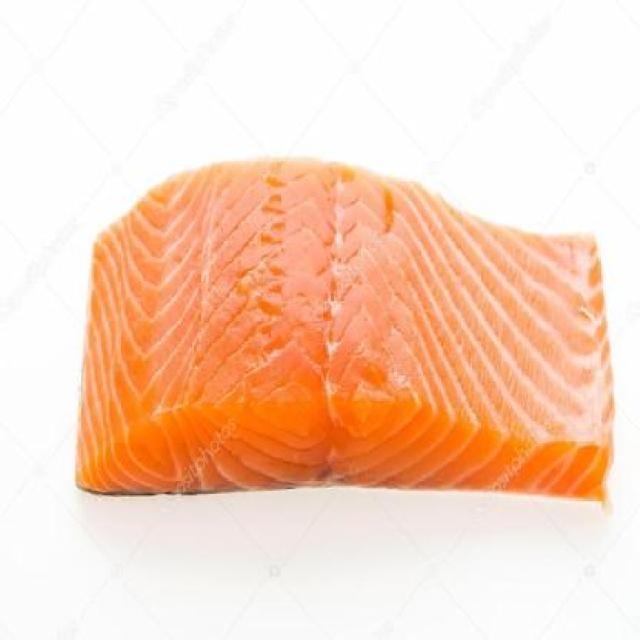salmon: (72, 142, 618, 526)
